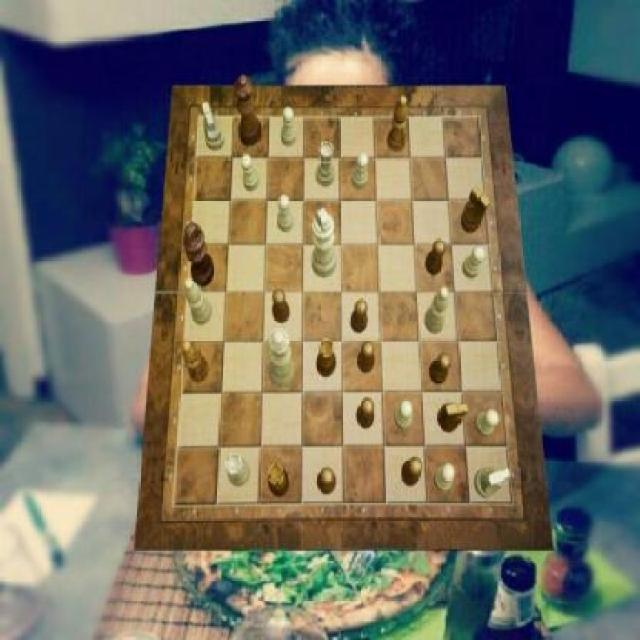bishop: (388, 96, 408, 152), (182, 338, 208, 381)
black-bishop: (183, 221, 214, 287)
black-king: (460, 186, 490, 234), (437, 402, 468, 432)
black-knight: (424, 240, 446, 276), (429, 354, 452, 386), (272, 289, 290, 324), (357, 341, 375, 374), (402, 457, 422, 486), (351, 299, 368, 333), (356, 397, 374, 429), (317, 468, 337, 495)
black-pawn: (234, 75, 261, 148)
black-queen: (317, 338, 337, 377), (269, 463, 290, 497)
black-rook: (184, 279, 212, 326), (425, 286, 449, 334)
white-bishop: (312, 208, 337, 278)
white-king: (475, 468, 511, 500), (203, 103, 226, 152)
white-knight: (463, 248, 486, 280), (352, 152, 370, 190), (474, 409, 498, 437), (242, 156, 260, 192), (277, 195, 294, 233), (282, 108, 298, 148), (395, 400, 413, 431), (434, 465, 454, 492)
white-pawn: (268, 328, 294, 388)
white-queen: (224, 454, 250, 488), (316, 141, 334, 187)
